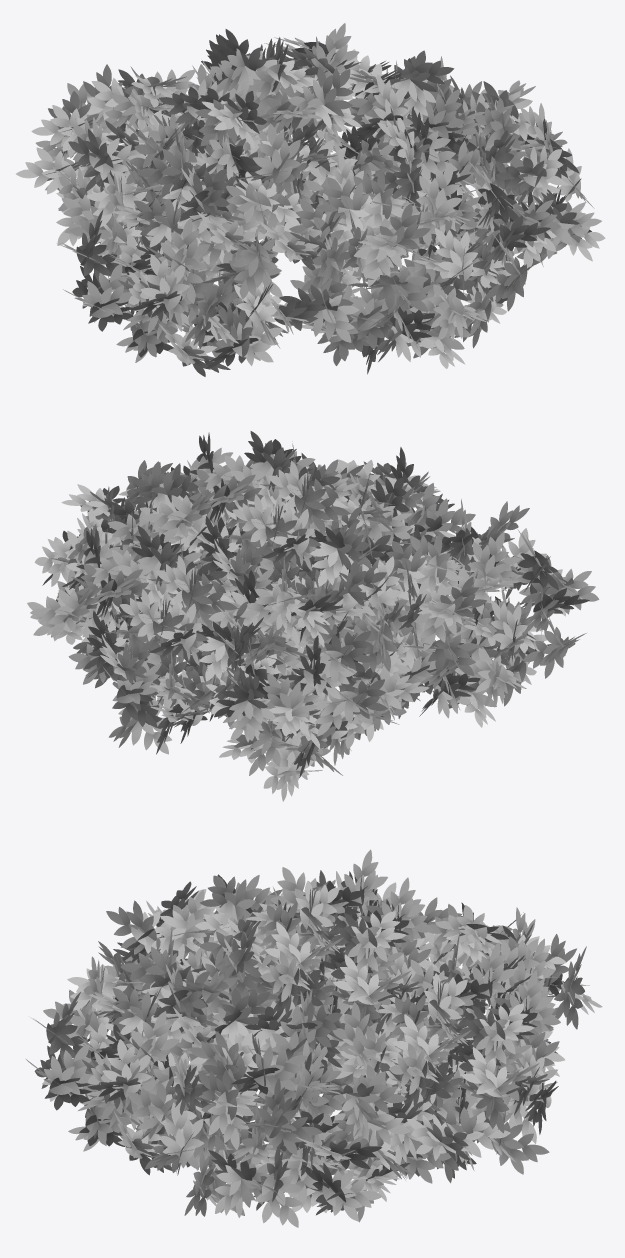
Rendered from leaves_big.fbx.
The picture shows the model from 3 angles, top to bottom: view 1: azimuth 30°, elevation 25°; view 2: azimuth 150°, elevation 25°; view 3: azimuth 270°, elevation 25°; orthographic projection. The views are drawn at different scales.
Visible parts, largest first — view 1: trim_sheet120; view 2: trim_sheet120; view 3: trim_sheet120.
Boxes of the visible parts, x1,y1,x2,y2 form: trim_sheet120: [16, 23, 605, 376]; trim_sheet120: [27, 431, 599, 801]; trim_sheet120: [26, 849, 602, 1227].
Size of the model in its own units: 906 by 522 by 837.
2 materials, 2 textured.
